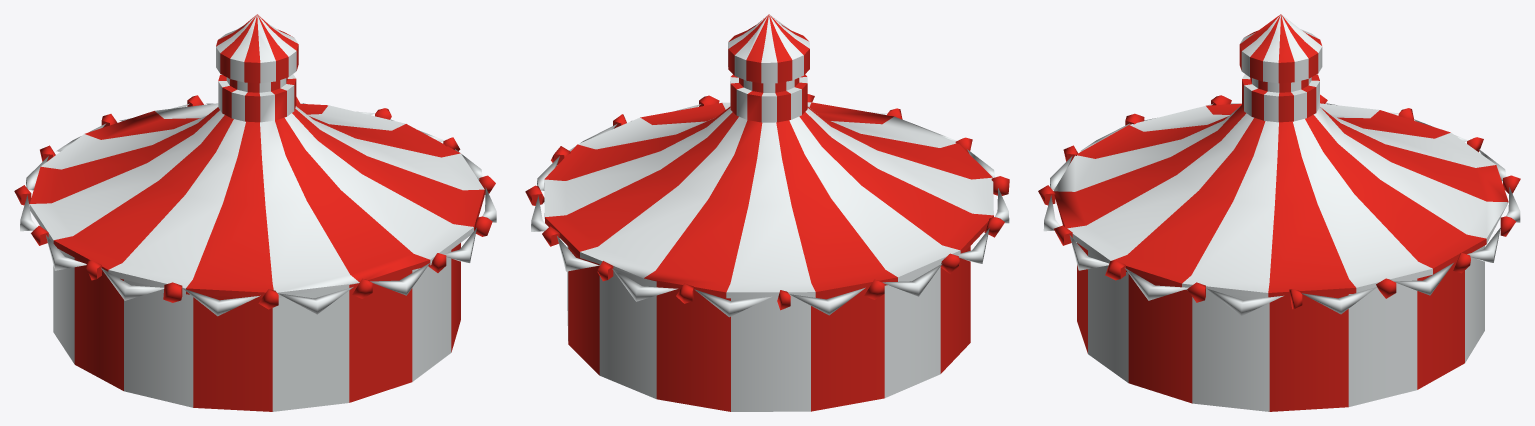
Rendered from Circustentnew.glb.
The picture shows the model from 3 angles, left to right: view 1: azimuth 30°, elevation 25°; view 2: azimuth 150°, elevation 25°; view 3: azimuth 270°, elevation 25°; orthographic projection.
Parts seen in each view (by area): view 1: Tent; view 2: Tent; view 3: Tent.
Part boxes in pixels (x1,y1,x2,y2): Tent: (14, 14, 496, 411); Tent: (525, 14, 1009, 411); Tent: (1038, 14, 1520, 411).
Size of the model in its own units: 2.87 by 2.04 by 2.87.
Materials: 1 (1 with a texture image).
